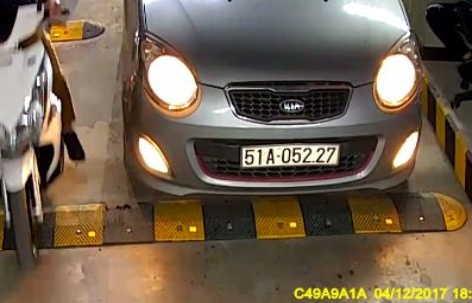plate: (236, 142, 341, 172)
